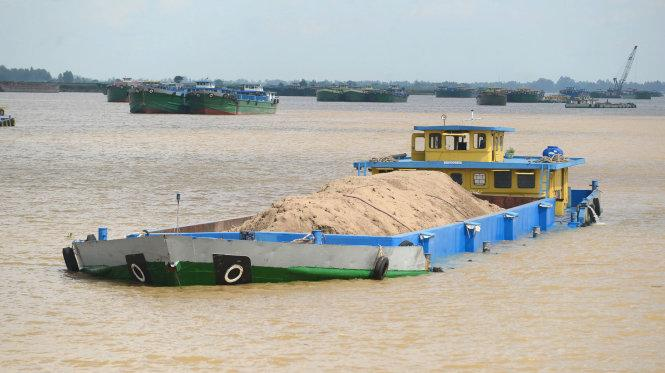Ship: (64, 123, 610, 284), (192, 88, 282, 119), (130, 81, 190, 119), (474, 88, 509, 108), (105, 80, 129, 104)
